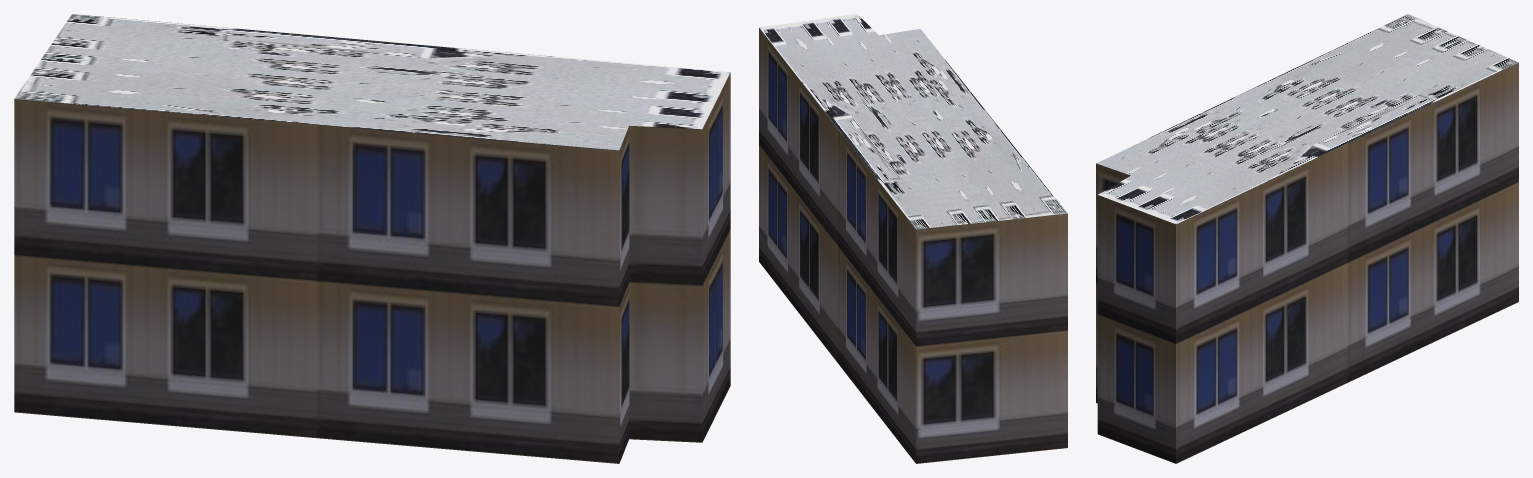
The model's file is ResTex__246.fbx.
3 renders of one model, left to right at view 1: azimuth 30°, elevation 25°; view 2: azimuth 150°, elevation 25°; view 3: azimuth 270°, elevation 25°, orthographic. The views are drawn at different scales.
Visible parts, largest first — view 1: CityEngineMaterial_5_m, CityEngineMaterial_m; view 2: CityEngineMaterial_5_m, CityEngineMaterial_m; view 3: CityEngineMaterial_5_m, CityEngineMaterial_m.
Part boxes in pixels (box(x1,y1,x2,y2)): CityEngineMaterial_5_m: box(14, 73, 730, 463); CityEngineMaterial_m: box(14, 14, 730, 150); CityEngineMaterial_5_m: box(759, 28, 1067, 463); CityEngineMaterial_m: box(759, 14, 1067, 229); CityEngineMaterial_5_m: box(1096, 62, 1518, 463); CityEngineMaterial_m: box(1096, 14, 1518, 224).
Bounding box in the file's own units: 11.31 × 6 × 9.6.
2 materials, 2 textured.
